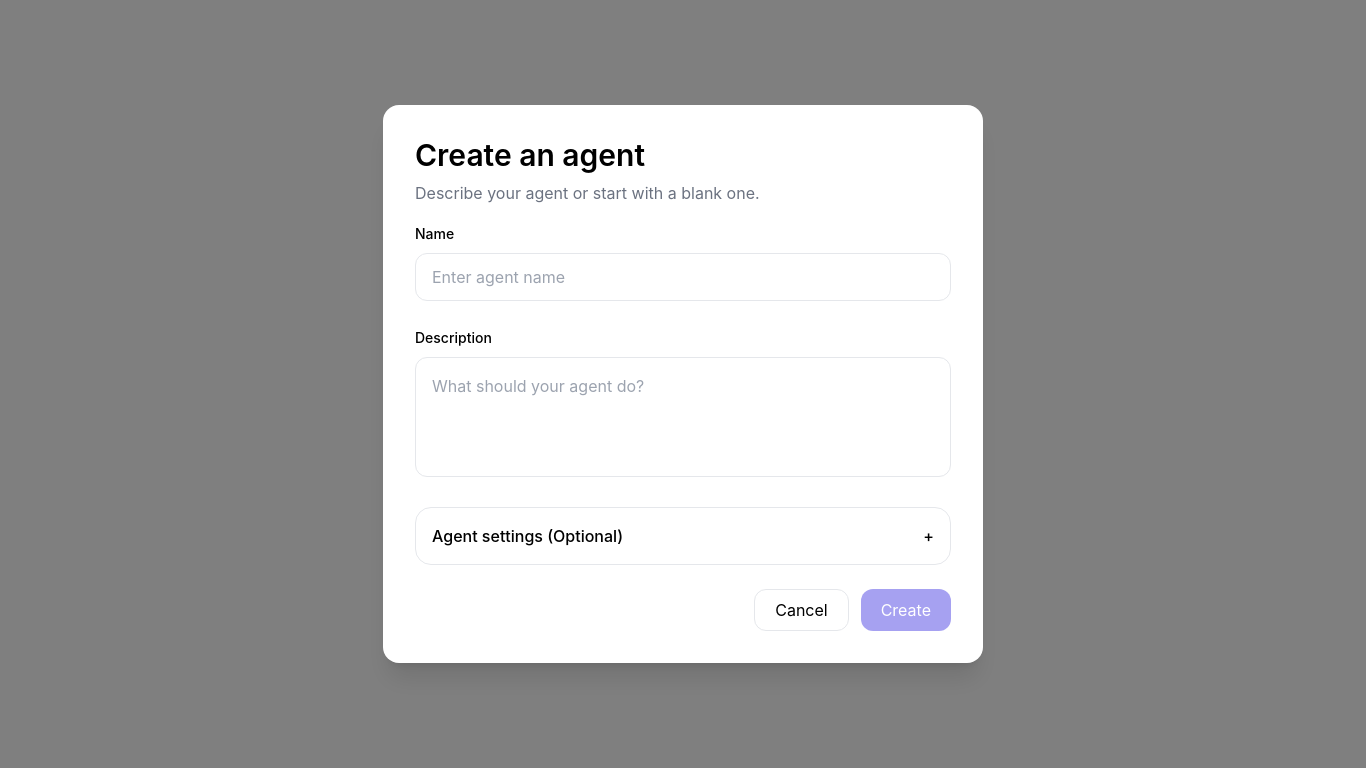
Test: CreateAgentModal › enables create button when name entered
Type "Support Agent" into the field with placeholder "Enter agent name".
click(683, 277); type("Support Agent")  # box [415,253,951,301]
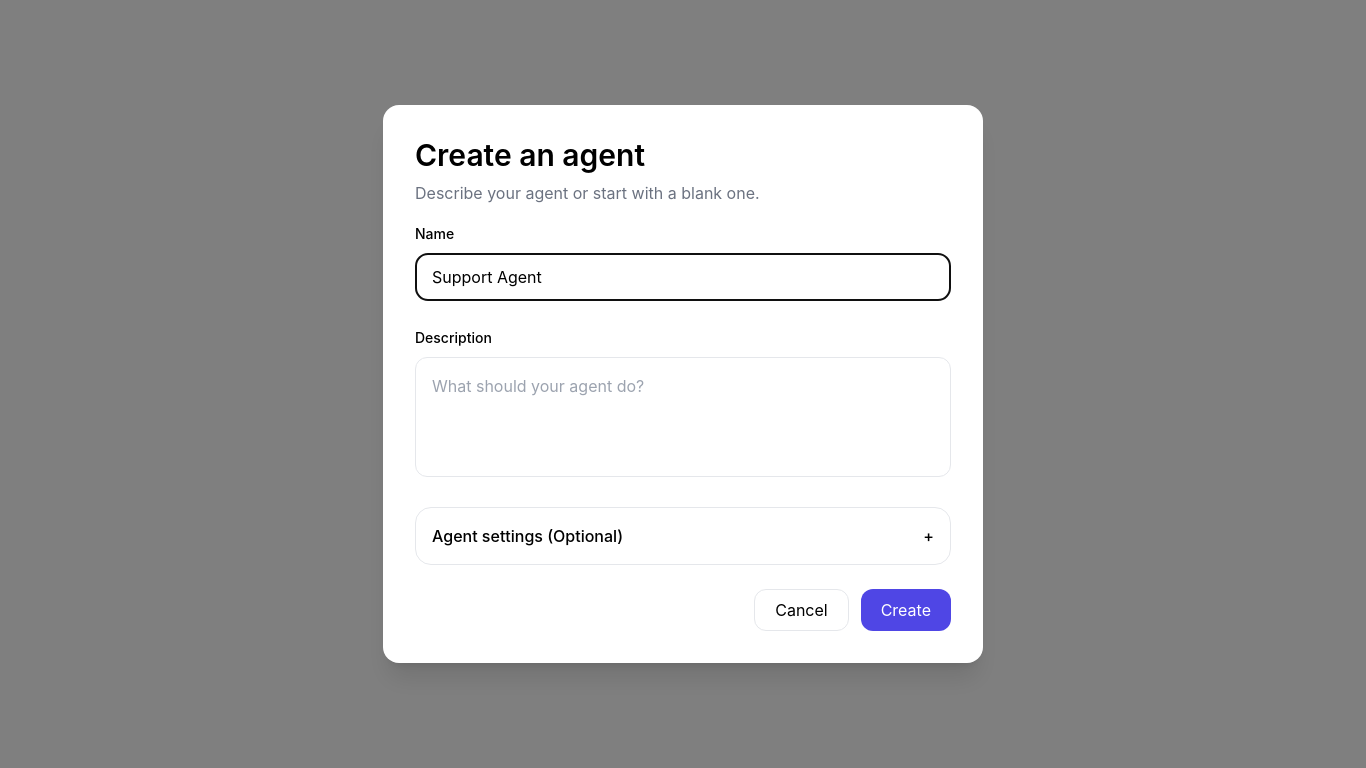
Expected: the button "Create" is enabled, [861,589,951,631]
